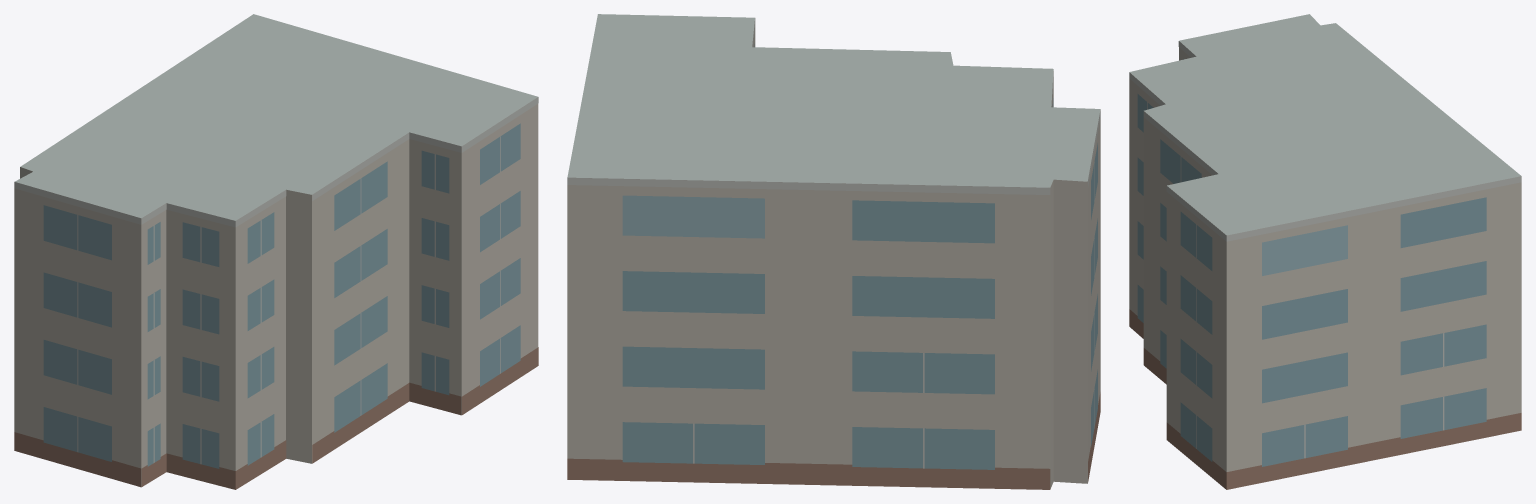
Rendered from survey-upis-32602729.glb.
3 views of the same model, side by side, from view 1: azimuth 30°, elevation 25°; view 2: azimuth 150°, elevation 25°; view 3: azimuth 270°, elevation 25° (orthographic). The views are drawn at different scales.
Parts seen in each view (by area): view 1: survey-upis-32602729.tmp; view 2: survey-upis-32602729.tmp; view 3: survey-upis-32602729.tmp.
Part boxes in pixels (box(x1,y1,x2,y2)): survey-upis-32602729.tmp: box(14, 14, 538, 489); survey-upis-32602729.tmp: box(567, 14, 1100, 489); survey-upis-32602729.tmp: box(1129, 14, 1521, 489).
Bounding box in the file's own units: 18.69 × 10 × 13.99.
